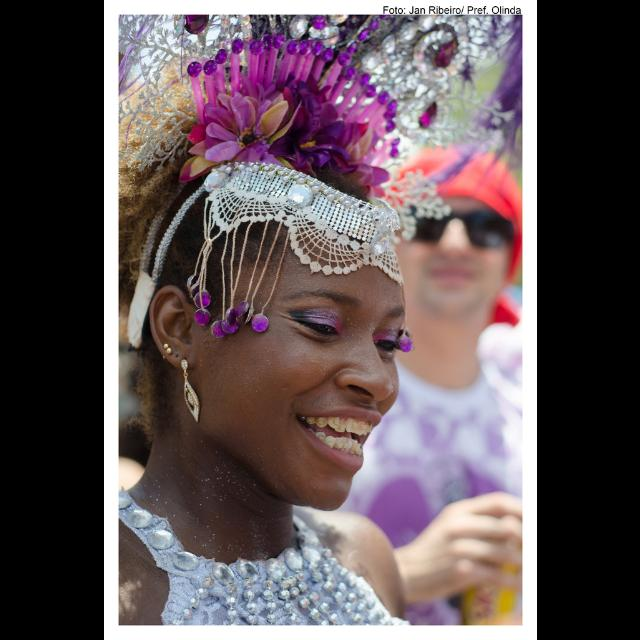Flower: (278, 70, 398, 176), (205, 90, 289, 162)
